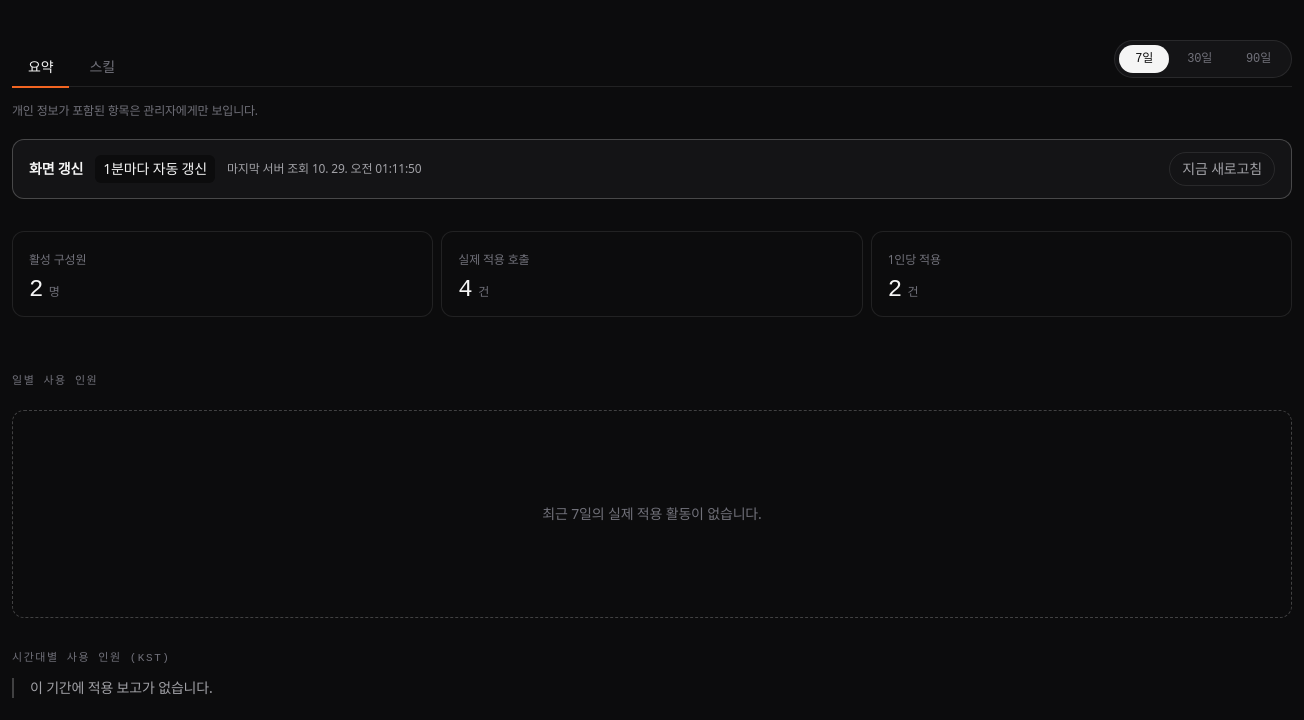
Test: AxDashboard 패널 요청 › 연결 가능 로드가 없는 구형 응답이면 전체 로드 분모임을 밝히고 추정하지 않는다
Expected: the text "활성 구성원" is shown, [29, 251, 86, 268]
Click the tab "스킬": (102, 67) [73, 47, 131, 87]
(page scrolled)
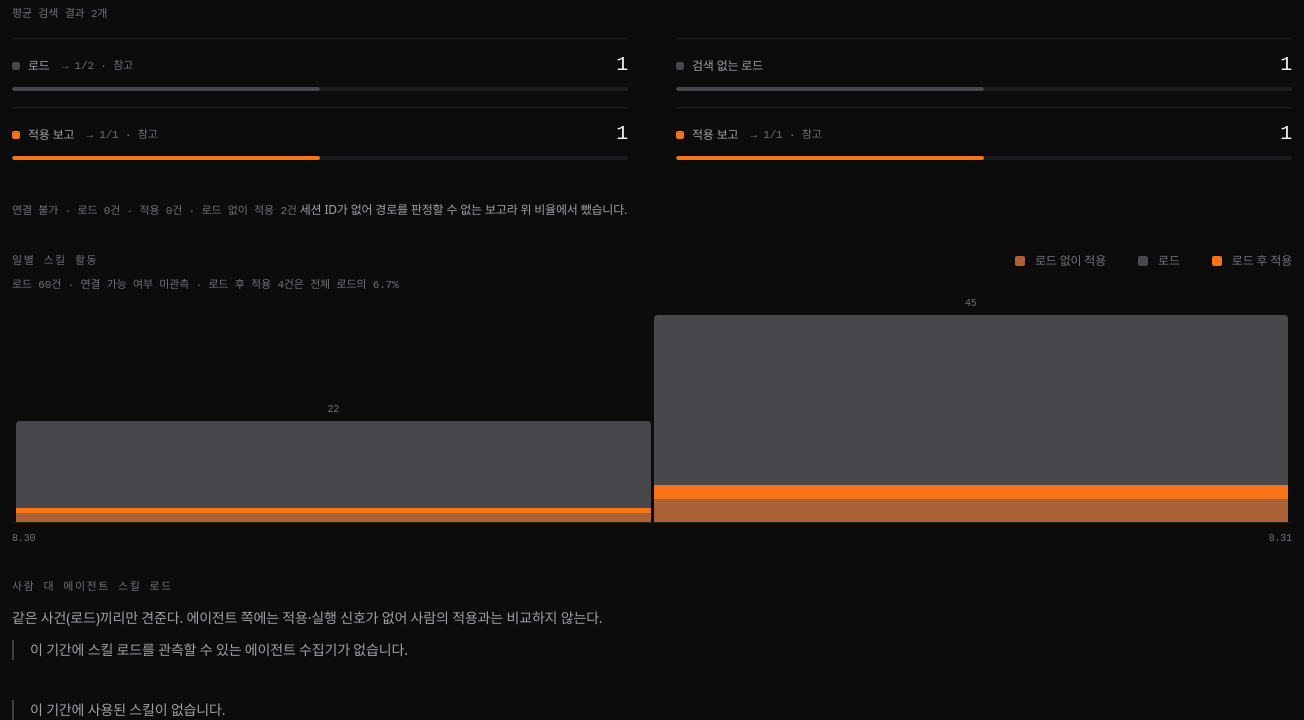
Expected: the text named "로드 후 적용 전환율 분모" reads "로드 60건 · 연결 가능 여부 미관측 · 로드 후 적용 4건은 전체 로드의 6.7%", [12, 279, 398, 291]
Expected: the element named "8월 31일 · 로드 없이 적용 5건 · 로드 40건 · 로드 후 적용 3건 · 전체 로드 40건 중 7.5%" is shown, [654, 315, 1288, 522]
